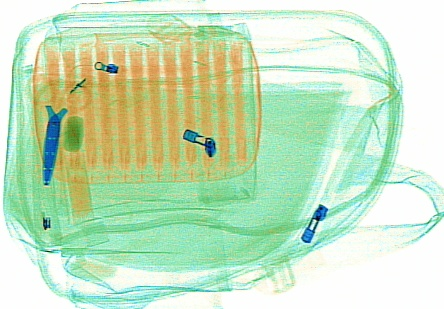scissors: (31, 78, 94, 188)
